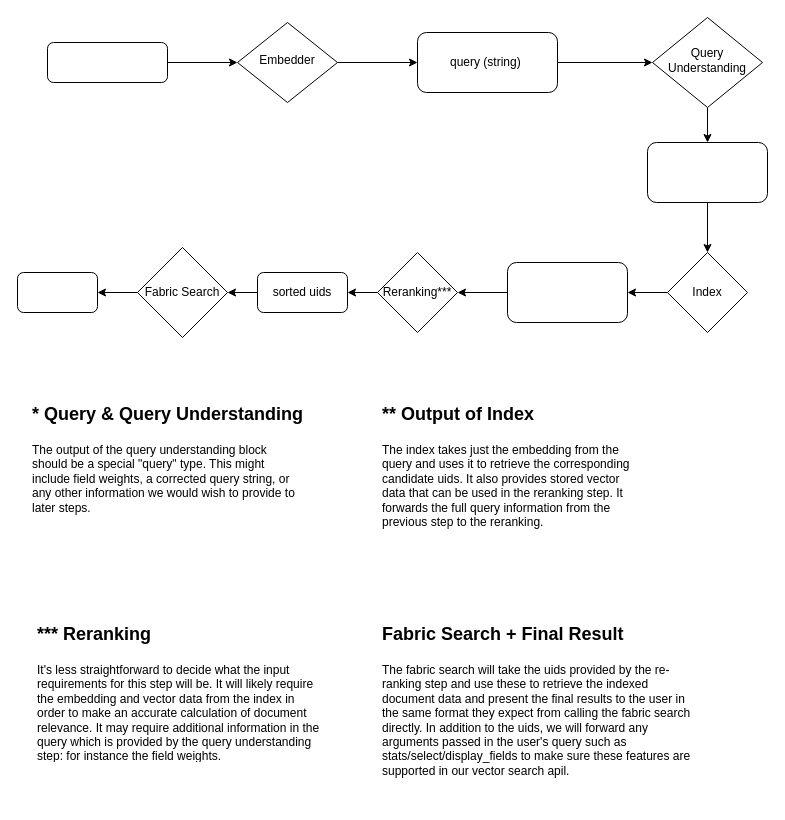
Image size: 785x820. Some labels were removed from this diagram. Each missing label, with the centre of its shape:
"Query *" belongs at (707,172).
"Result" belongs at (57,292).
"search args + content_id" belongs at (107,62).
"uids + query + stored vector data **" belongs at (567,292).
